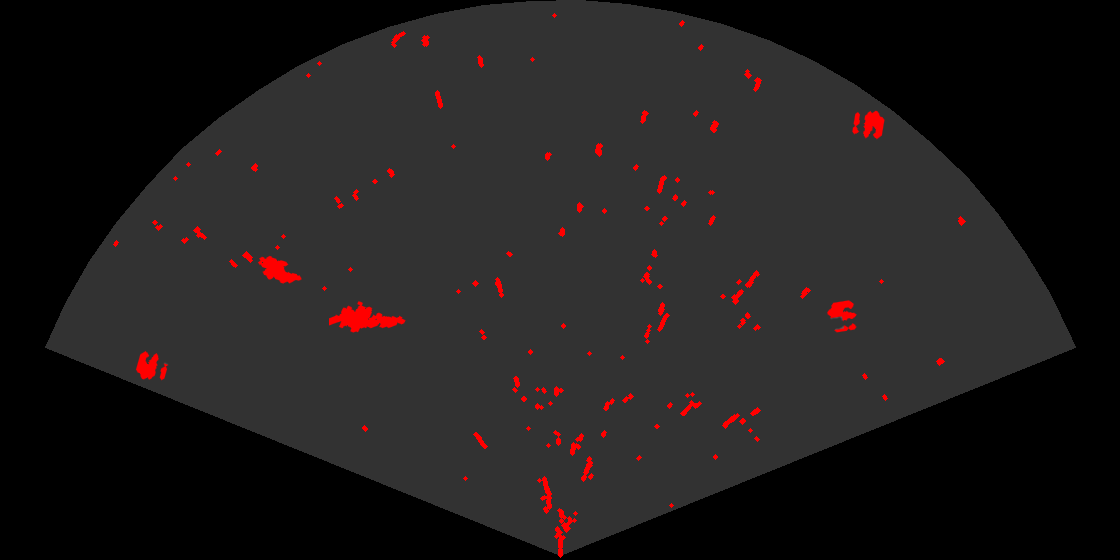AUV: (256, 254, 303, 285)
ball: (134, 349, 170, 382), (826, 299, 858, 334), (851, 109, 886, 141)
frogman: (329, 300, 407, 334)
